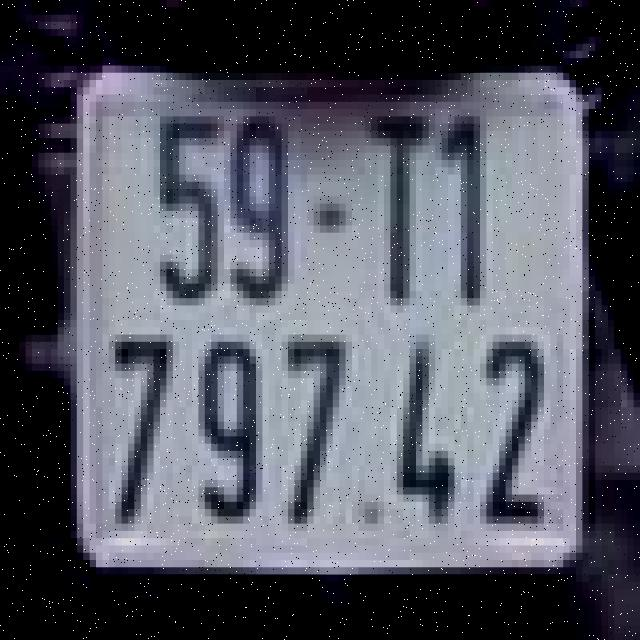1: (438, 109, 489, 306)
2: (461, 316, 557, 534)
4: (384, 331, 461, 527)
5: (141, 102, 230, 320)
7: (93, 323, 189, 534), (272, 331, 355, 527)
9: (182, 327, 266, 524), (224, 106, 294, 316)
T: (362, 102, 432, 327)
